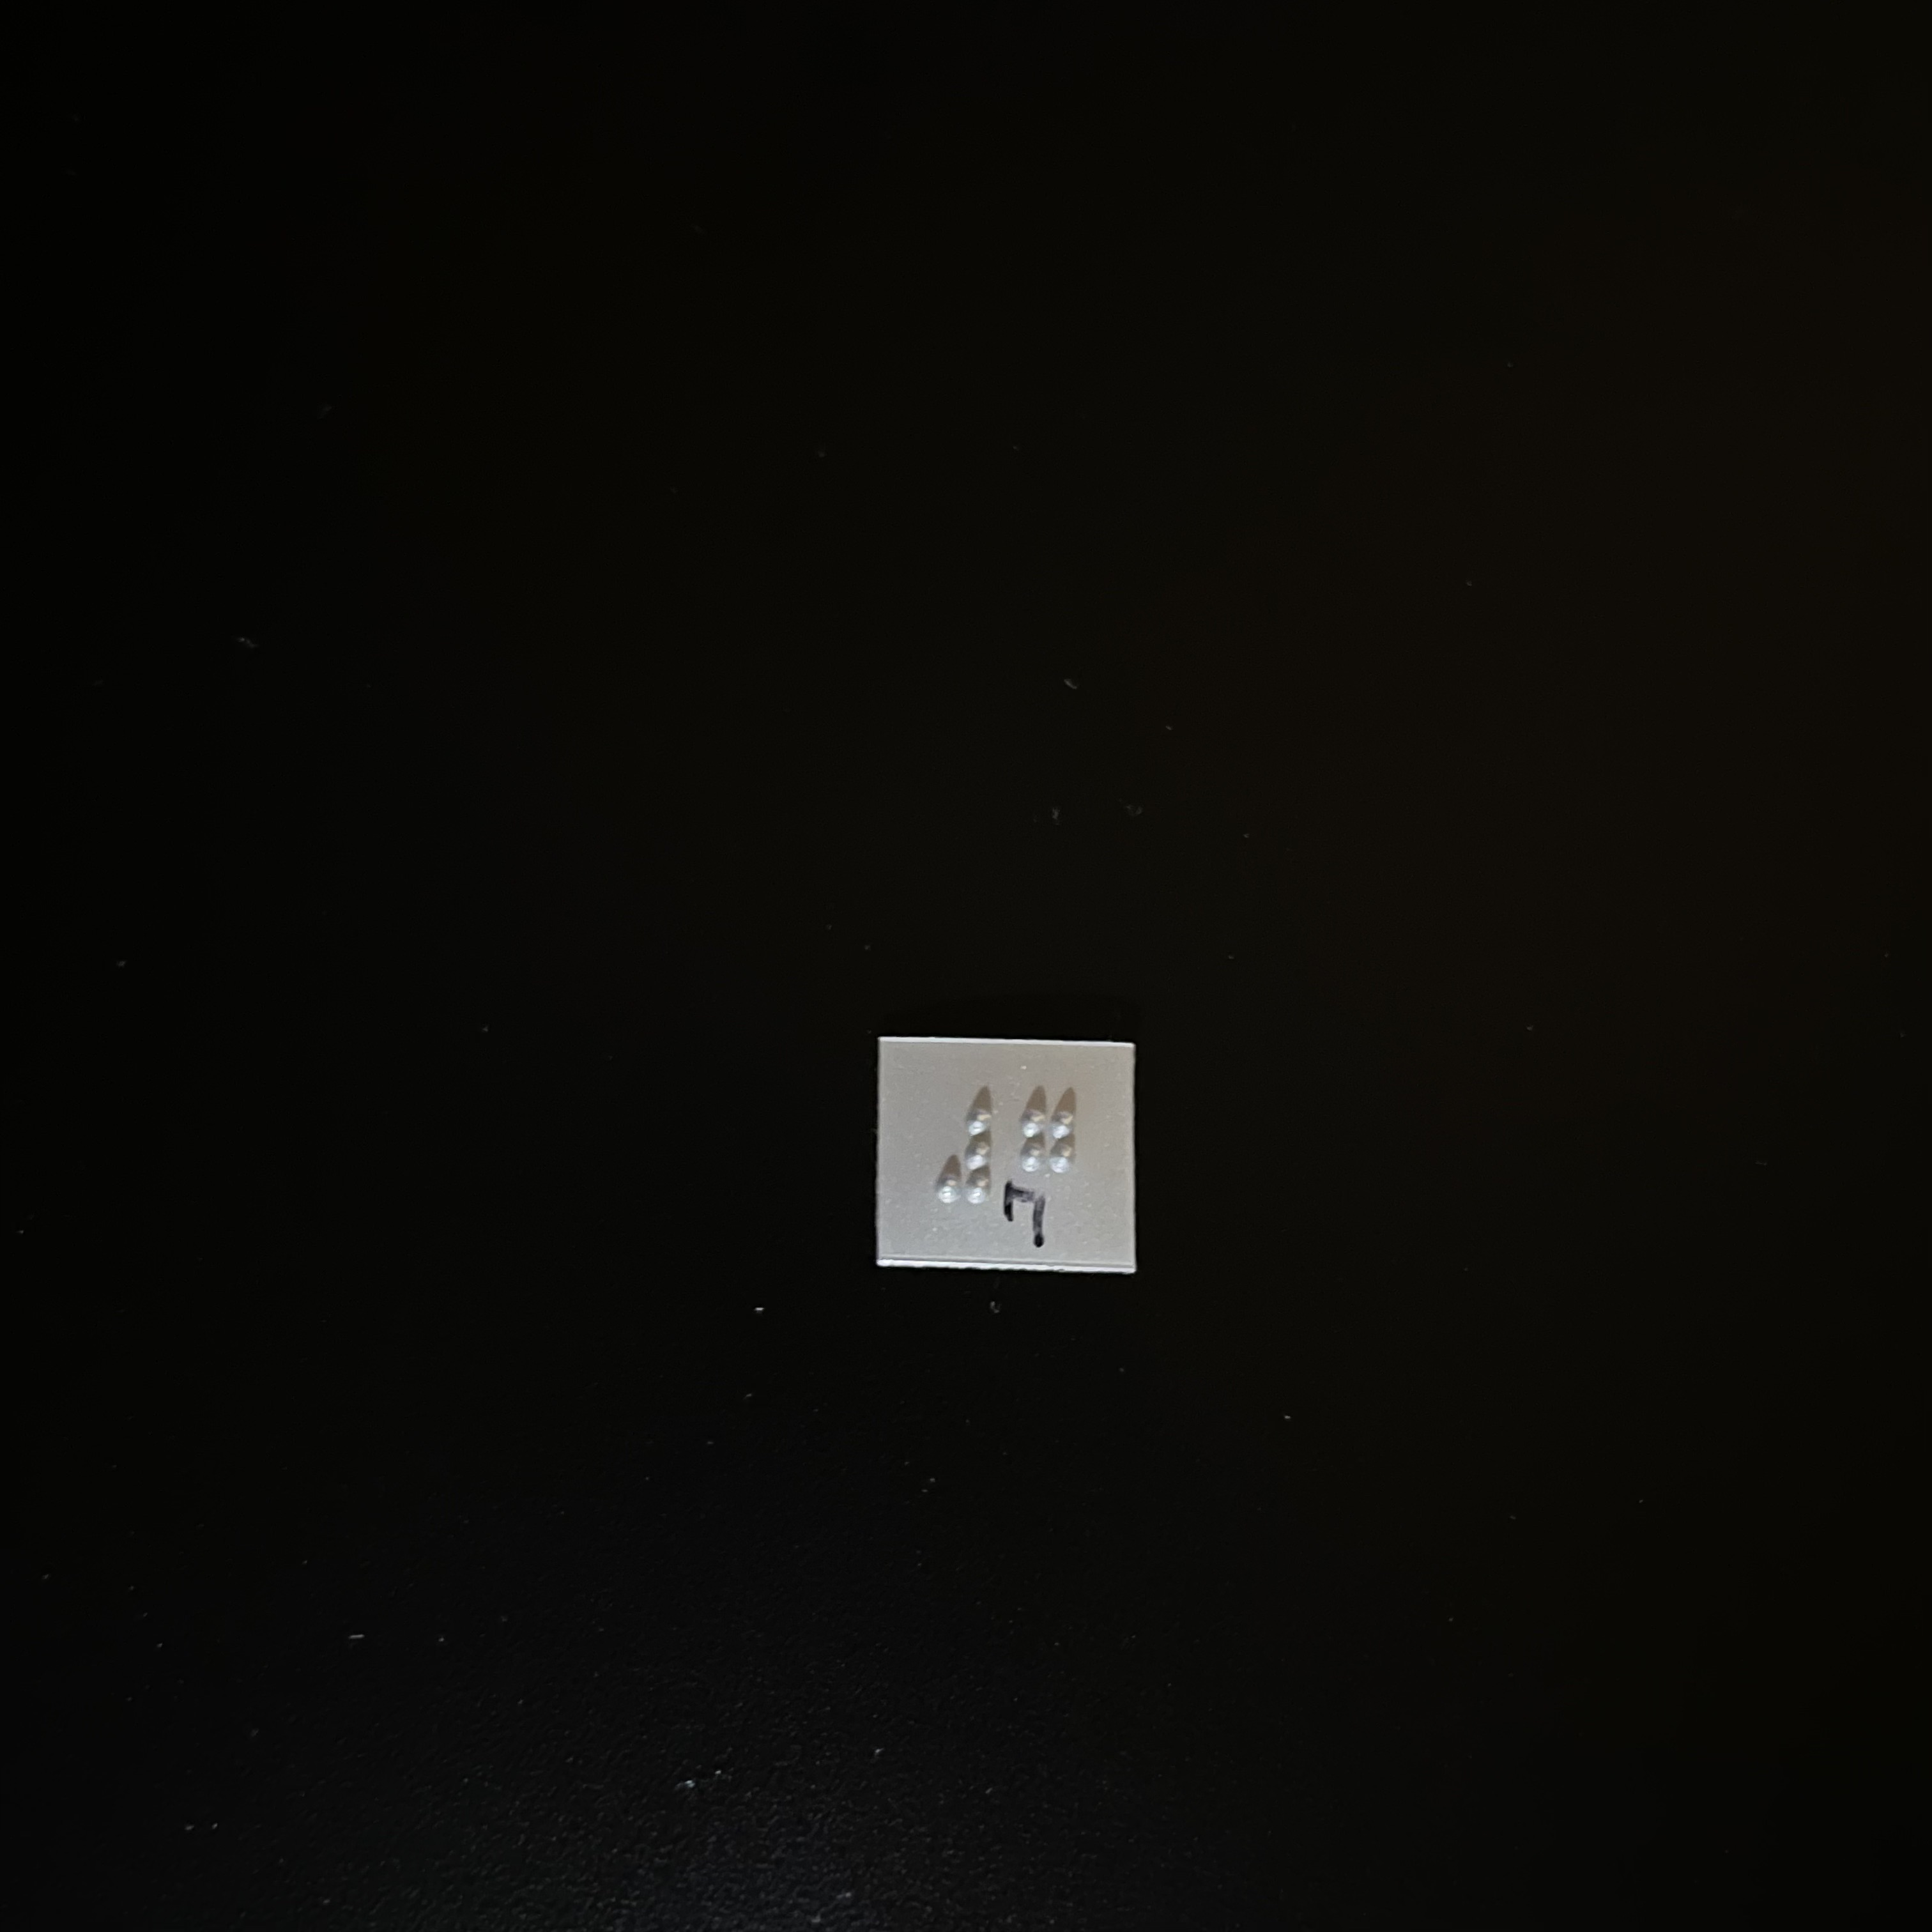#: (937, 1086, 1014, 1214)
g: (1014, 1088, 1082, 1216)
